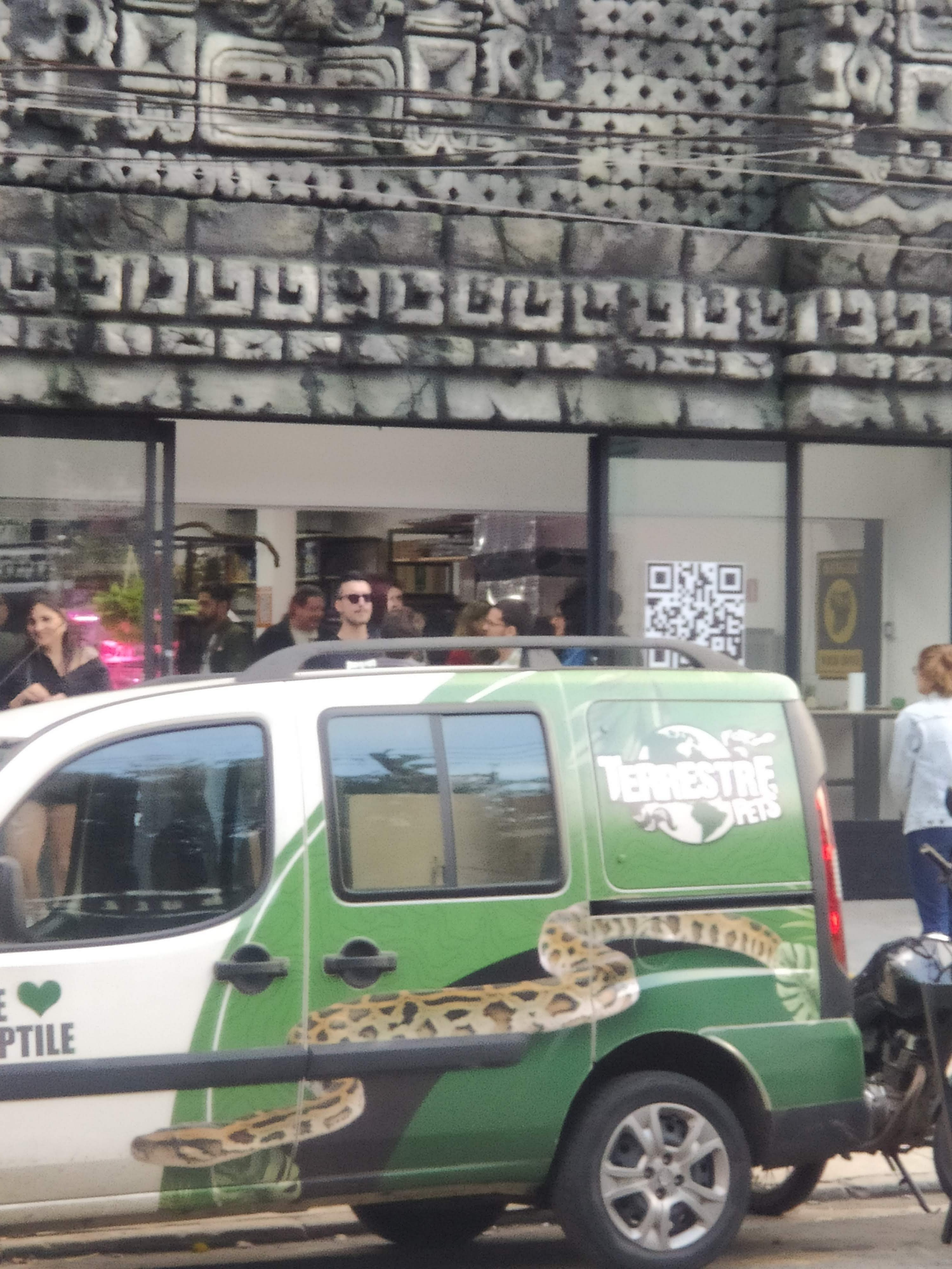QR-CODE: (647, 563, 743, 668)
